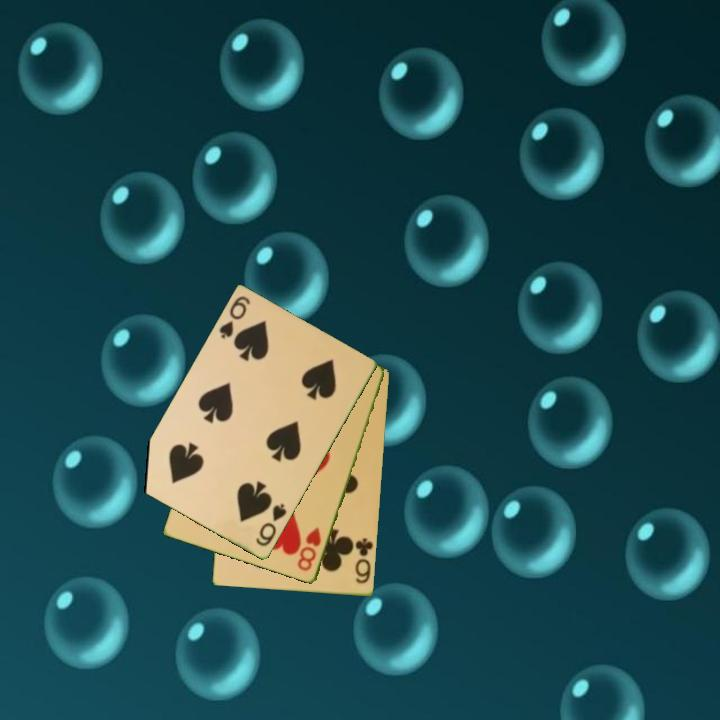6c: (352, 534, 376, 587)
6s: (252, 500, 290, 550), (216, 293, 253, 342)
8h: (294, 524, 324, 574)
